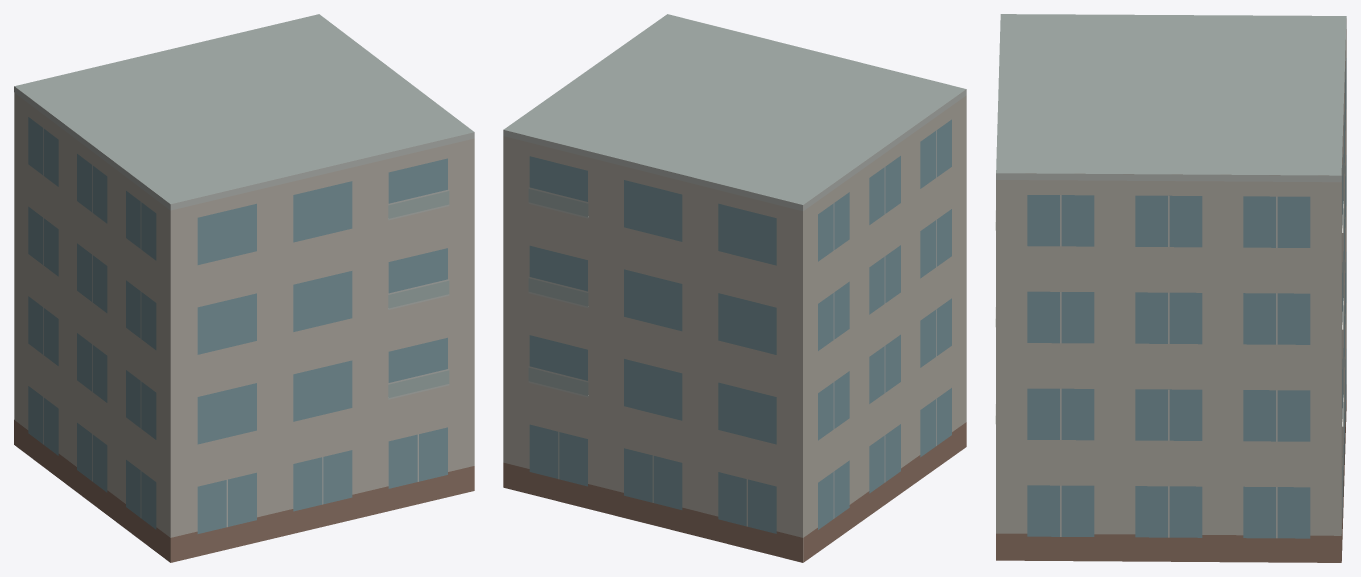
File: survey-upis-32603307.glb
The picture shows the model from 3 angles, left to right: view 1: azimuth 30°, elevation 25°; view 2: azimuth 150°, elevation 25°; view 3: azimuth 270°, elevation 25°; orthographic projection. The views are drawn at different scales.
Parts seen in each view (by area): view 1: survey-upis-32603307.tmp; view 2: survey-upis-32603307.tmp; view 3: survey-upis-32603307.tmp.
Part boxes in pixels (left/top/right/bottom): survey-upis-32603307.tmp: left=14, top=14, right=474, bottom=562; survey-upis-32603307.tmp: left=503, top=14, right=966, bottom=562; survey-upis-32603307.tmp: left=995, top=14, right=1346, bottom=562.
Bounding box in the file's own units: 12.53 × 14 × 11.51.
